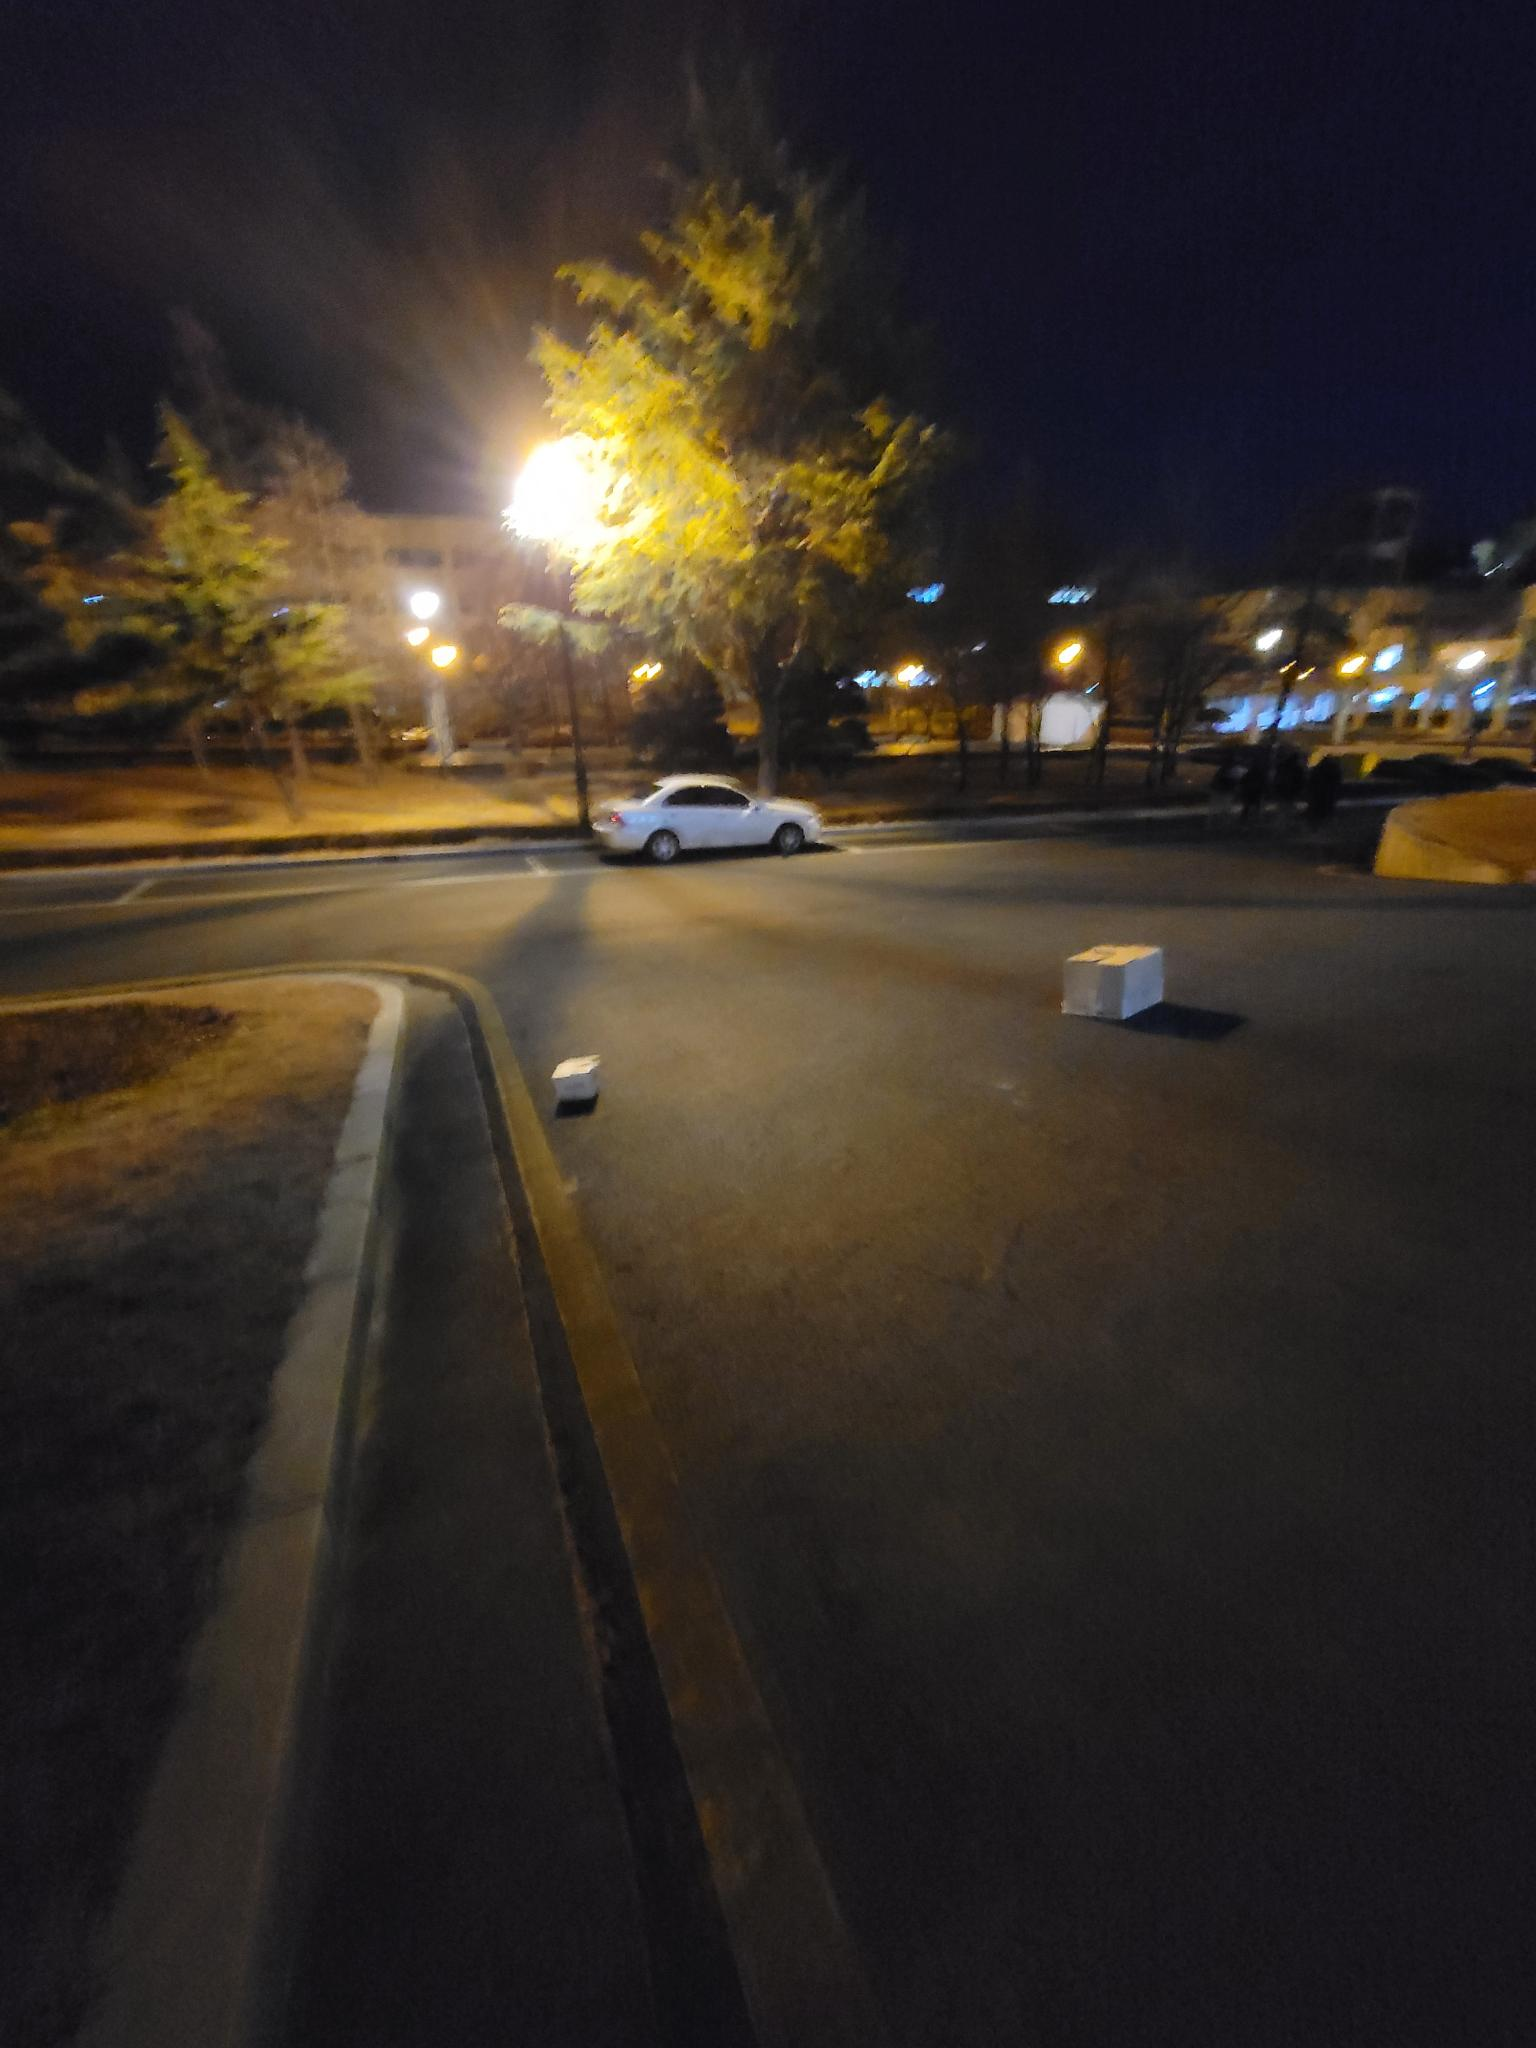Box: (1046, 932, 1170, 1026), (549, 1048, 608, 1108)
